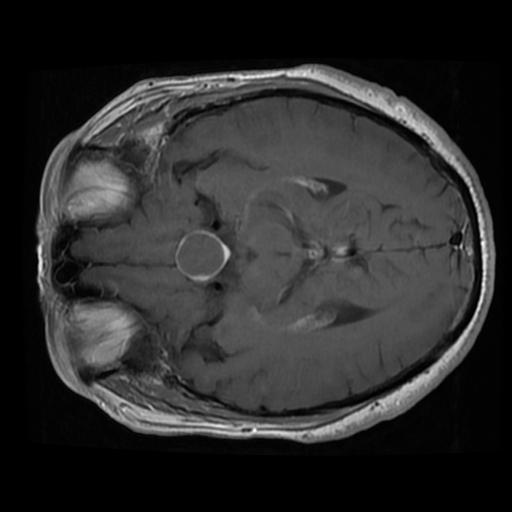pituitary tumour: (174, 229, 232, 280)
